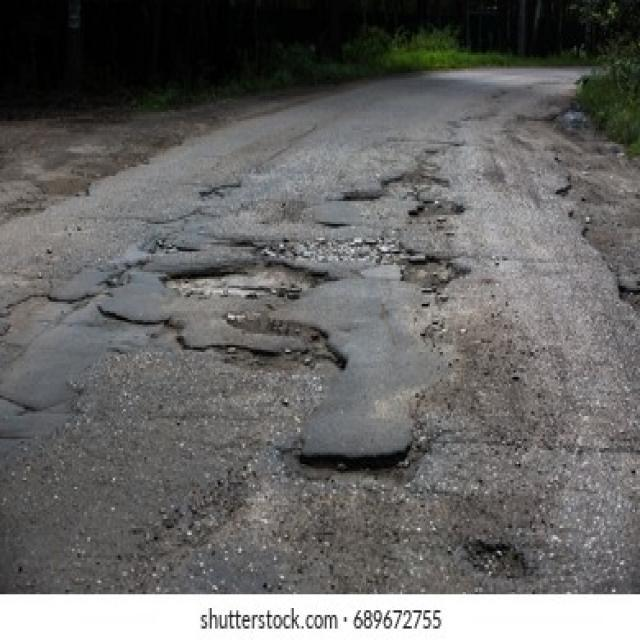Pothole: (158, 263, 334, 302), (397, 246, 465, 292), (471, 537, 534, 578), (406, 201, 464, 220)
